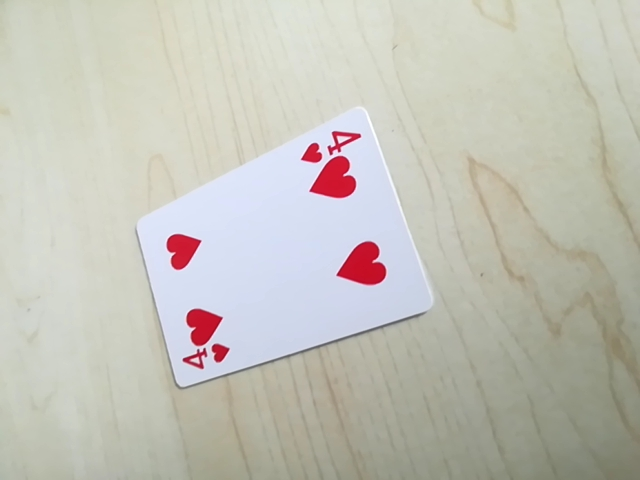hx 4: (296, 123, 365, 161), (175, 341, 234, 377)
